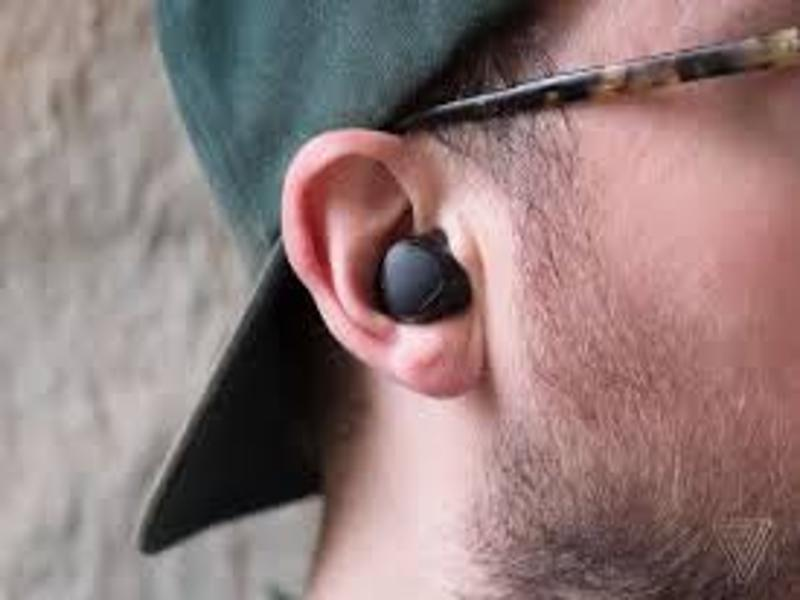headphone: (373, 230, 466, 322)
